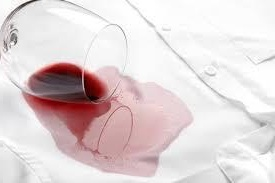wine: (54, 84, 184, 170), (28, 71, 132, 121), (104, 158, 156, 183)
